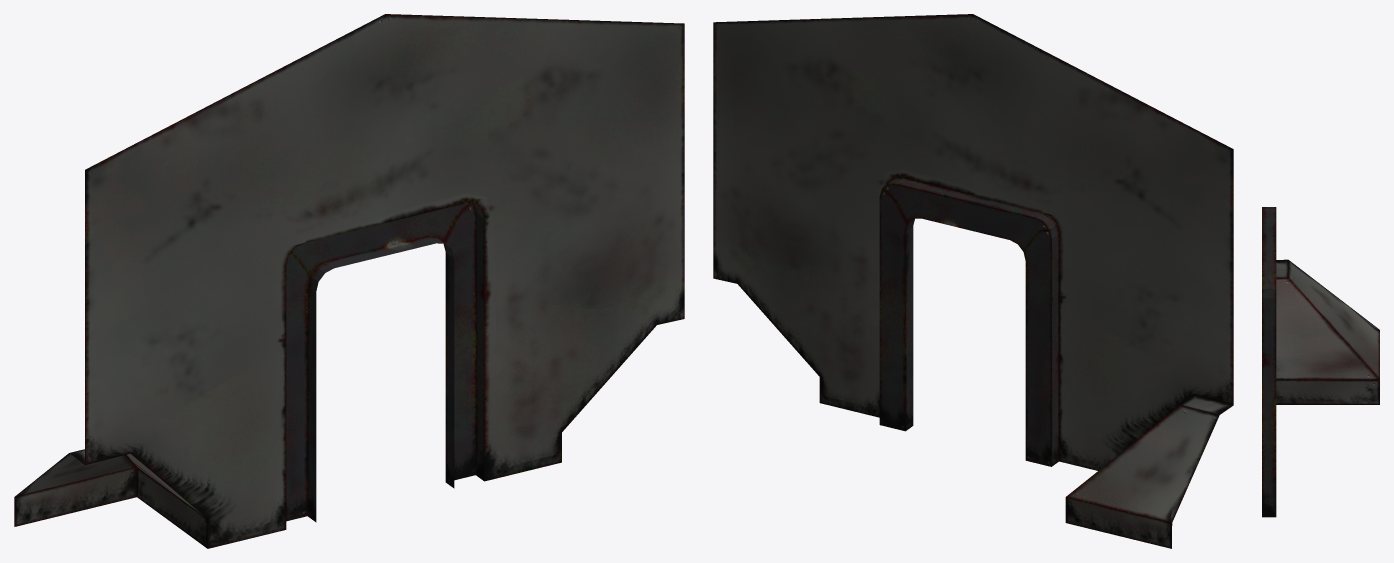
The model's file is AngeledTunnel Entrance_Angled.fbx.
3 views of the same model, side by side, from view 1: azimuth 30°, elevation 25°; view 2: azimuth 150°, elevation 25°; view 3: azimuth 270°, elevation 25° (orthographic). The views are drawn at different scales.
Parts seen in each view (by area): view 1: Entrance_Angled; view 2: Entrance_Angled; view 3: Entrance_Angled.
Part boxes in pixels (<box>): Entrance_Angled: <box>14,14,684,548</box>; Entrance_Angled: <box>713,14,1233,548</box>; Entrance_Angled: <box>1262,207,1379,517</box>.
Size of the model in its own units: 205 by 1000 by 784.
